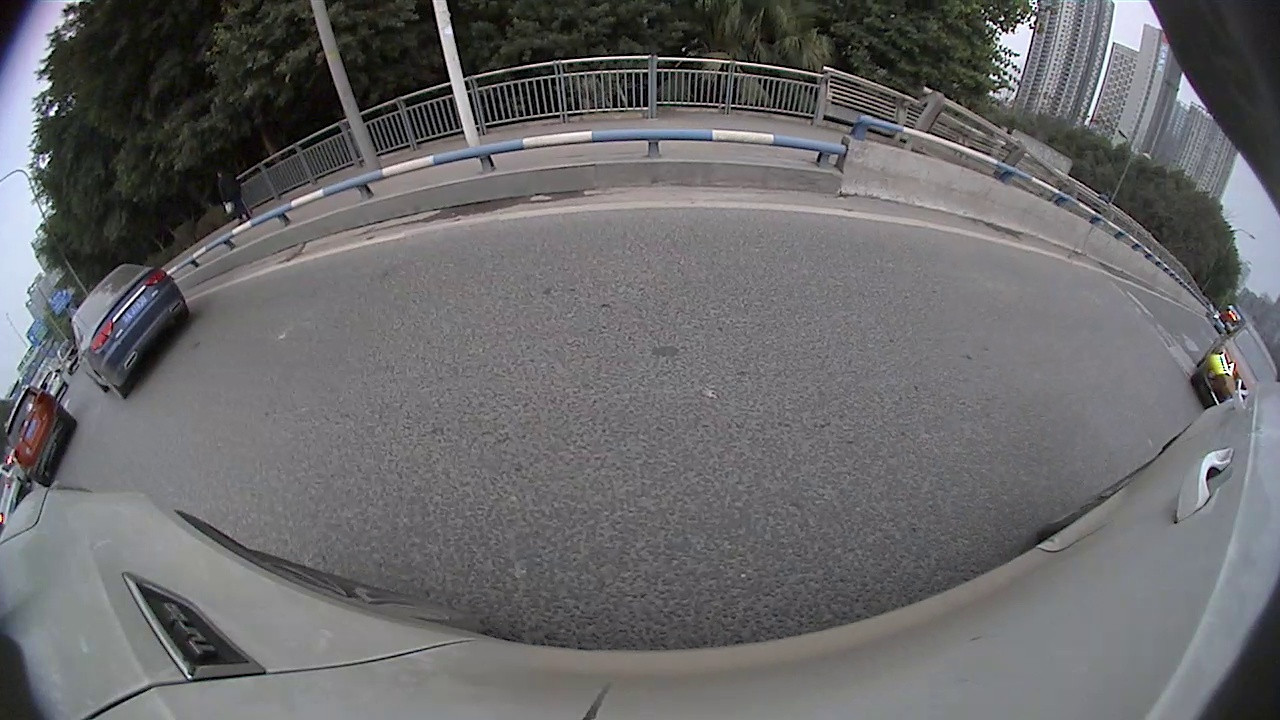car: (69, 260, 192, 403), (1, 385, 78, 492), (1192, 325, 1278, 415), (0, 458, 33, 533), (34, 368, 69, 398), (55, 337, 84, 373)
person: (215, 170, 251, 228)
rear: (94, 364, 128, 401), (172, 306, 196, 329)
